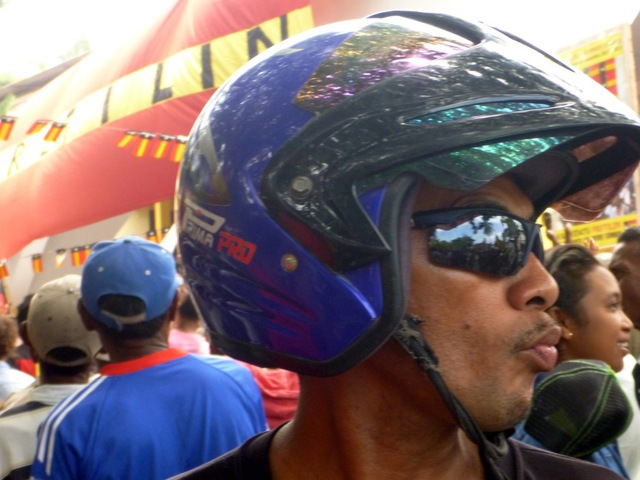helmet: (172, 23, 607, 361)
